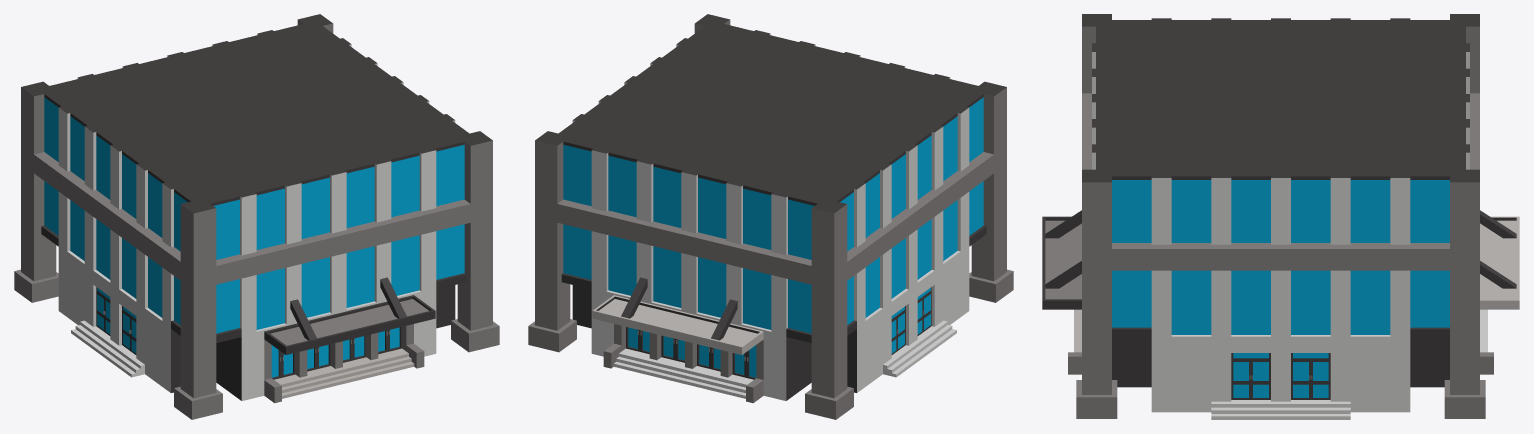
The model's file is Building_1.fbx.
3 views of the same model, side by side, from view 1: azimuth 30°, elevation 25°; view 2: azimuth 150°, elevation 25°; view 3: azimuth 270°, elevation 25° (orthographic). The views are drawn at different scales.
Visible parts, largest first — view 1: Building_Mesh_1; view 2: Building_Mesh_1; view 3: Building_Mesh_1.
Part boxes in pixels (x1,y1,x2,y2): Building_Mesh_1: (14, 14, 499, 419); Building_Mesh_1: (528, 14, 1013, 419); Building_Mesh_1: (1042, 14, 1519, 419).
Bounding box in the file's own units: 3.54 × 2.21 × 4.08.
